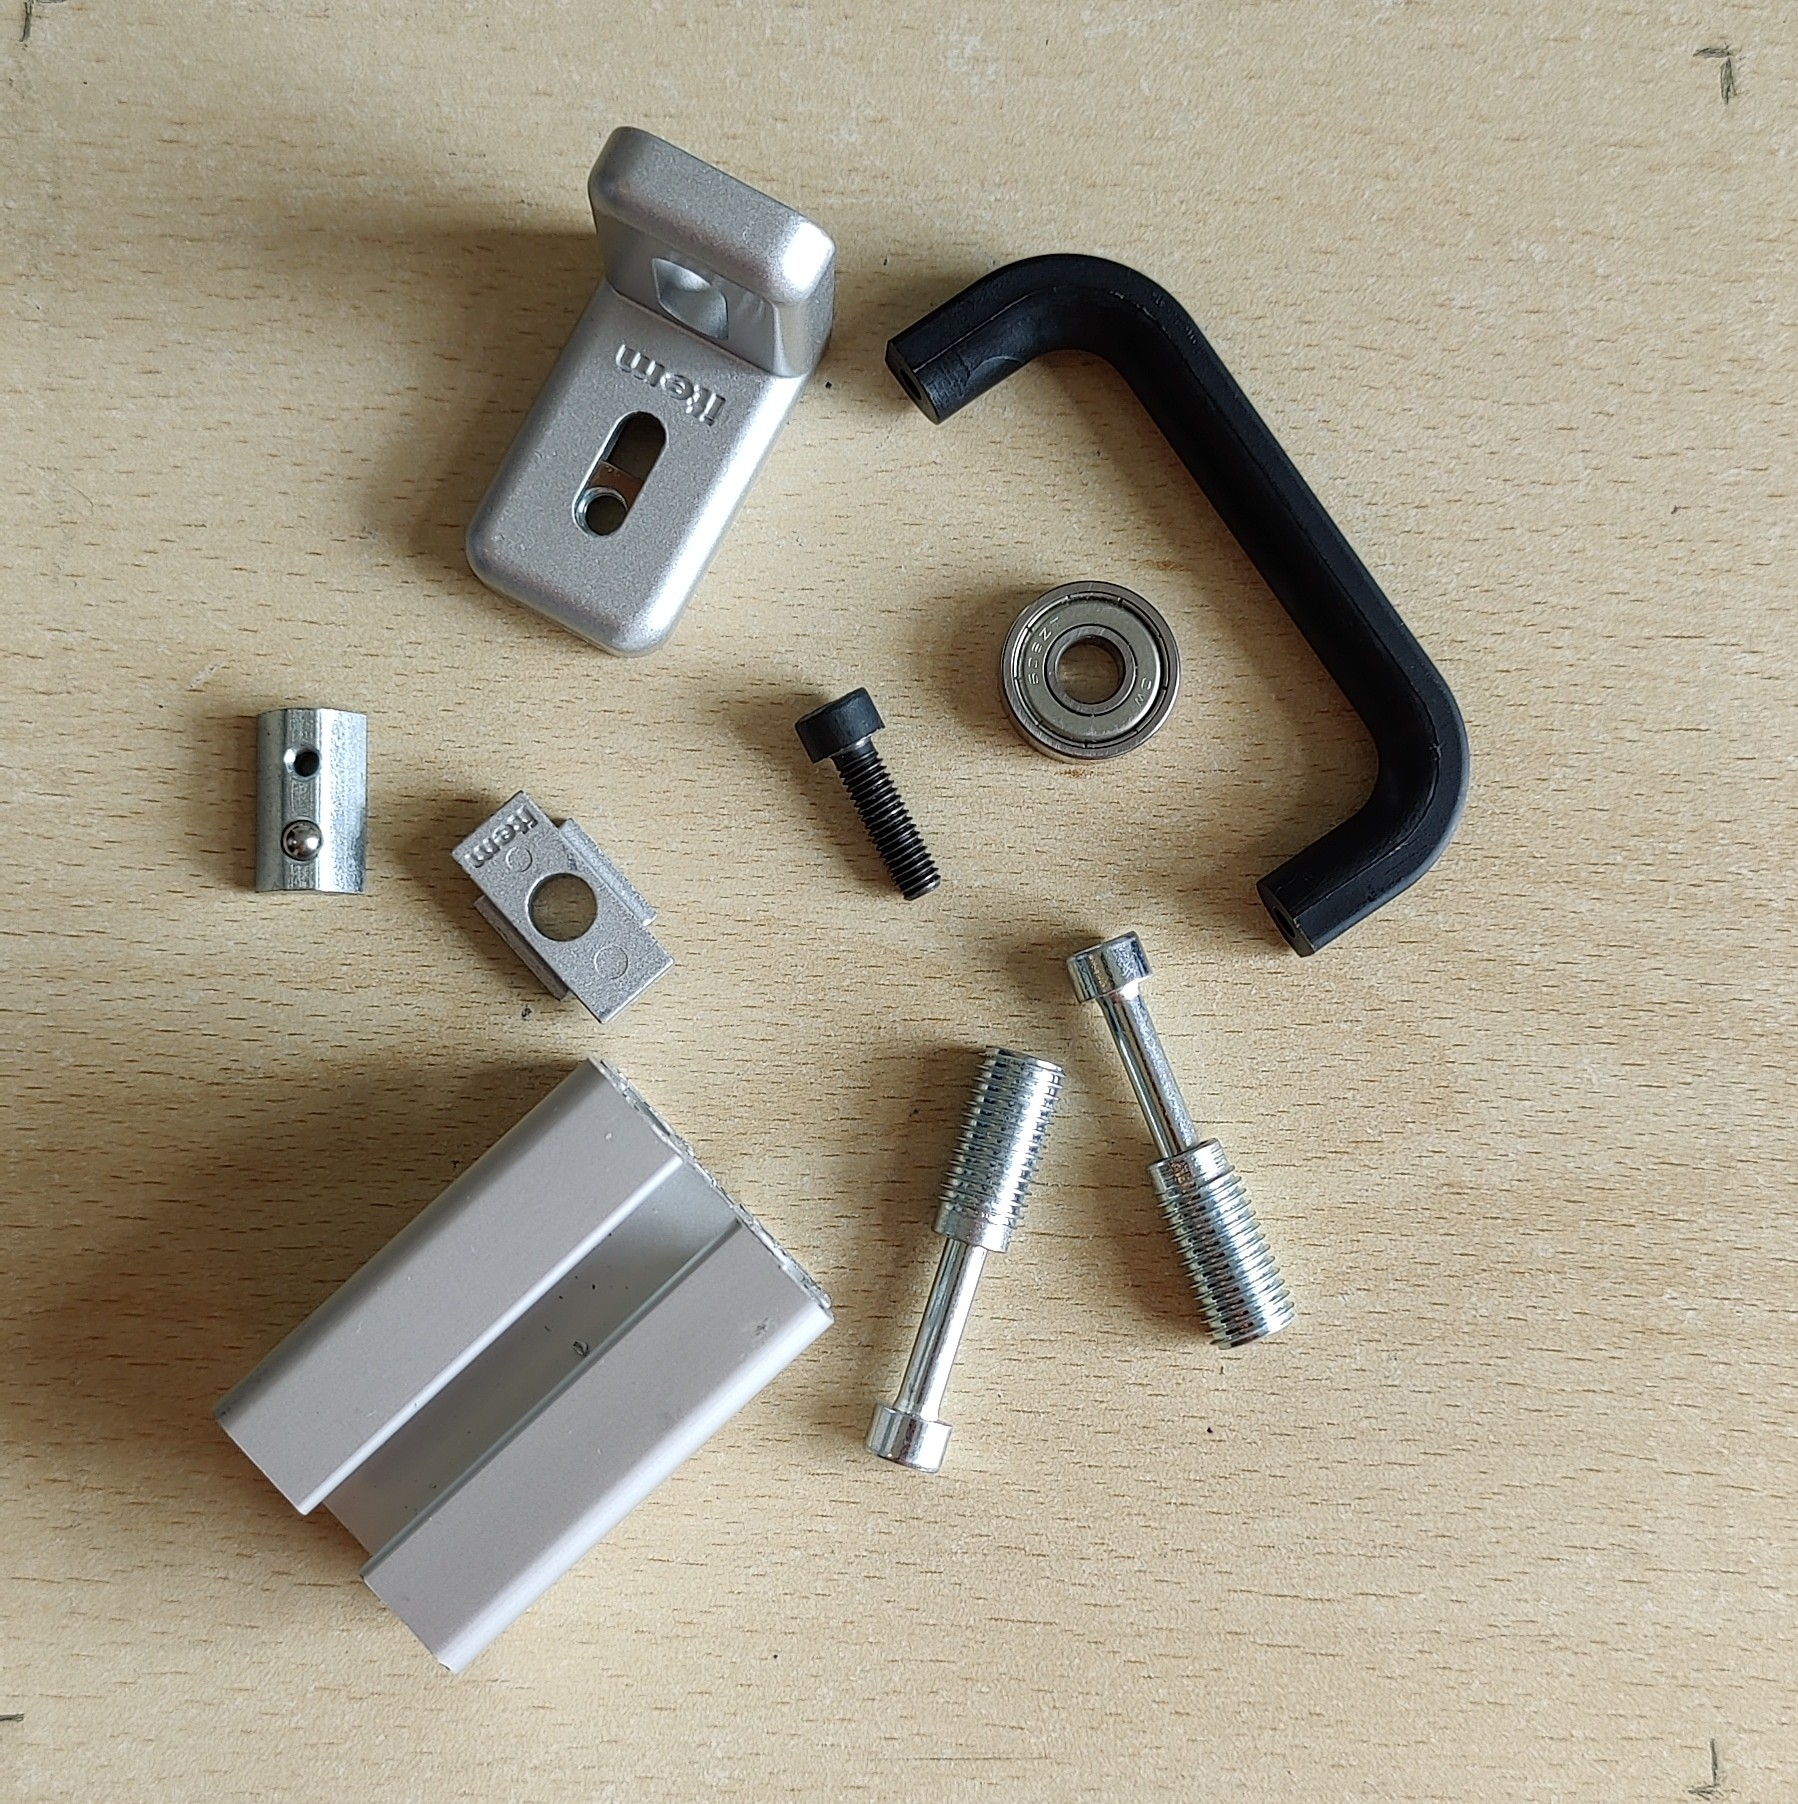Aluminium Extension: (207, 1055, 840, 1677)
Ball Bearing: (998, 579, 1184, 769)
Multiwinkel: (461, 123, 836, 662)
Pull Handle: (883, 249, 1474, 956)
Shoulder Socket Head Cap Screw: (1059, 928, 1299, 1353), (864, 1042, 1065, 1476)
Socket Head Cap Screw: (794, 685, 947, 902)
T Nut Square: (448, 787, 677, 1025)
T Spring Nut: (249, 701, 374, 899)
